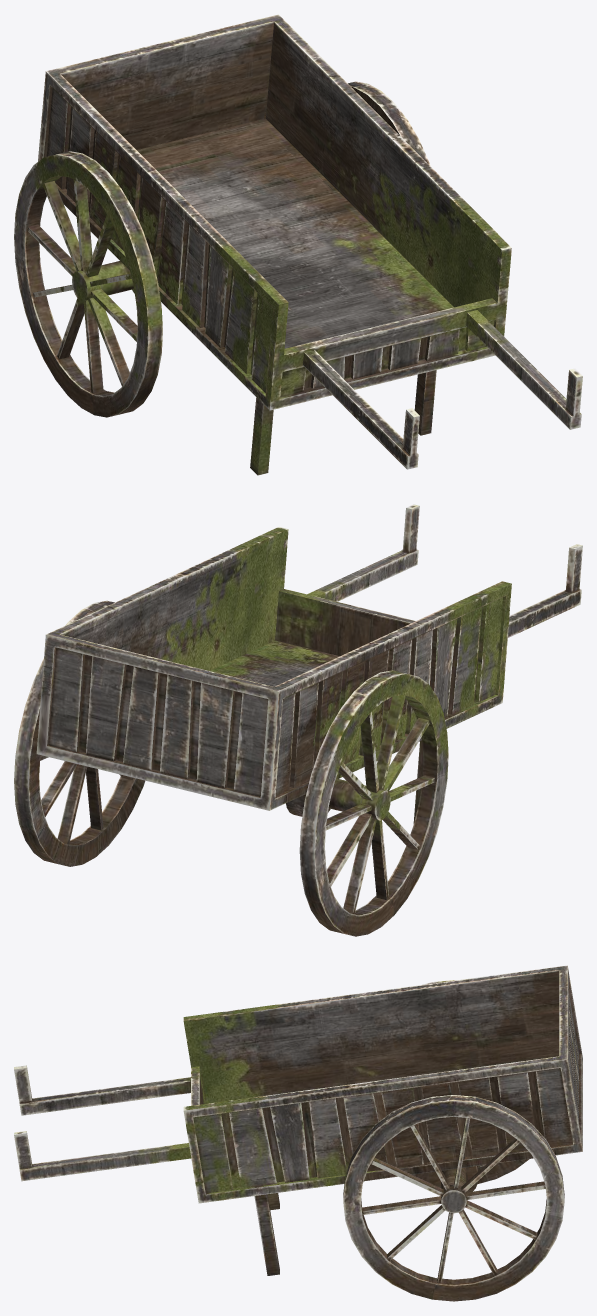
The model's file is hand_cart.glb.
3 views of the same model, one above another, from view 1: azimuth 30°, elevation 25°; view 2: azimuth 150°, elevation 25°; view 3: azimuth 270°, elevation 25° (orthographic). The views are drawn at different scales.
Parts seen in each view (by area): view 1: Object_2; view 2: Object_2; view 3: Object_2.
Part boxes in pixels (bbox=[...]): Object_2: bbox=[14, 14, 582, 475]; Object_2: bbox=[14, 504, 582, 936]; Object_2: bbox=[14, 965, 582, 1301].
Bounding box in the file's own units: 1.26 × 1.1 × 2.48.
Materials: 1 (1 with a texture image).
